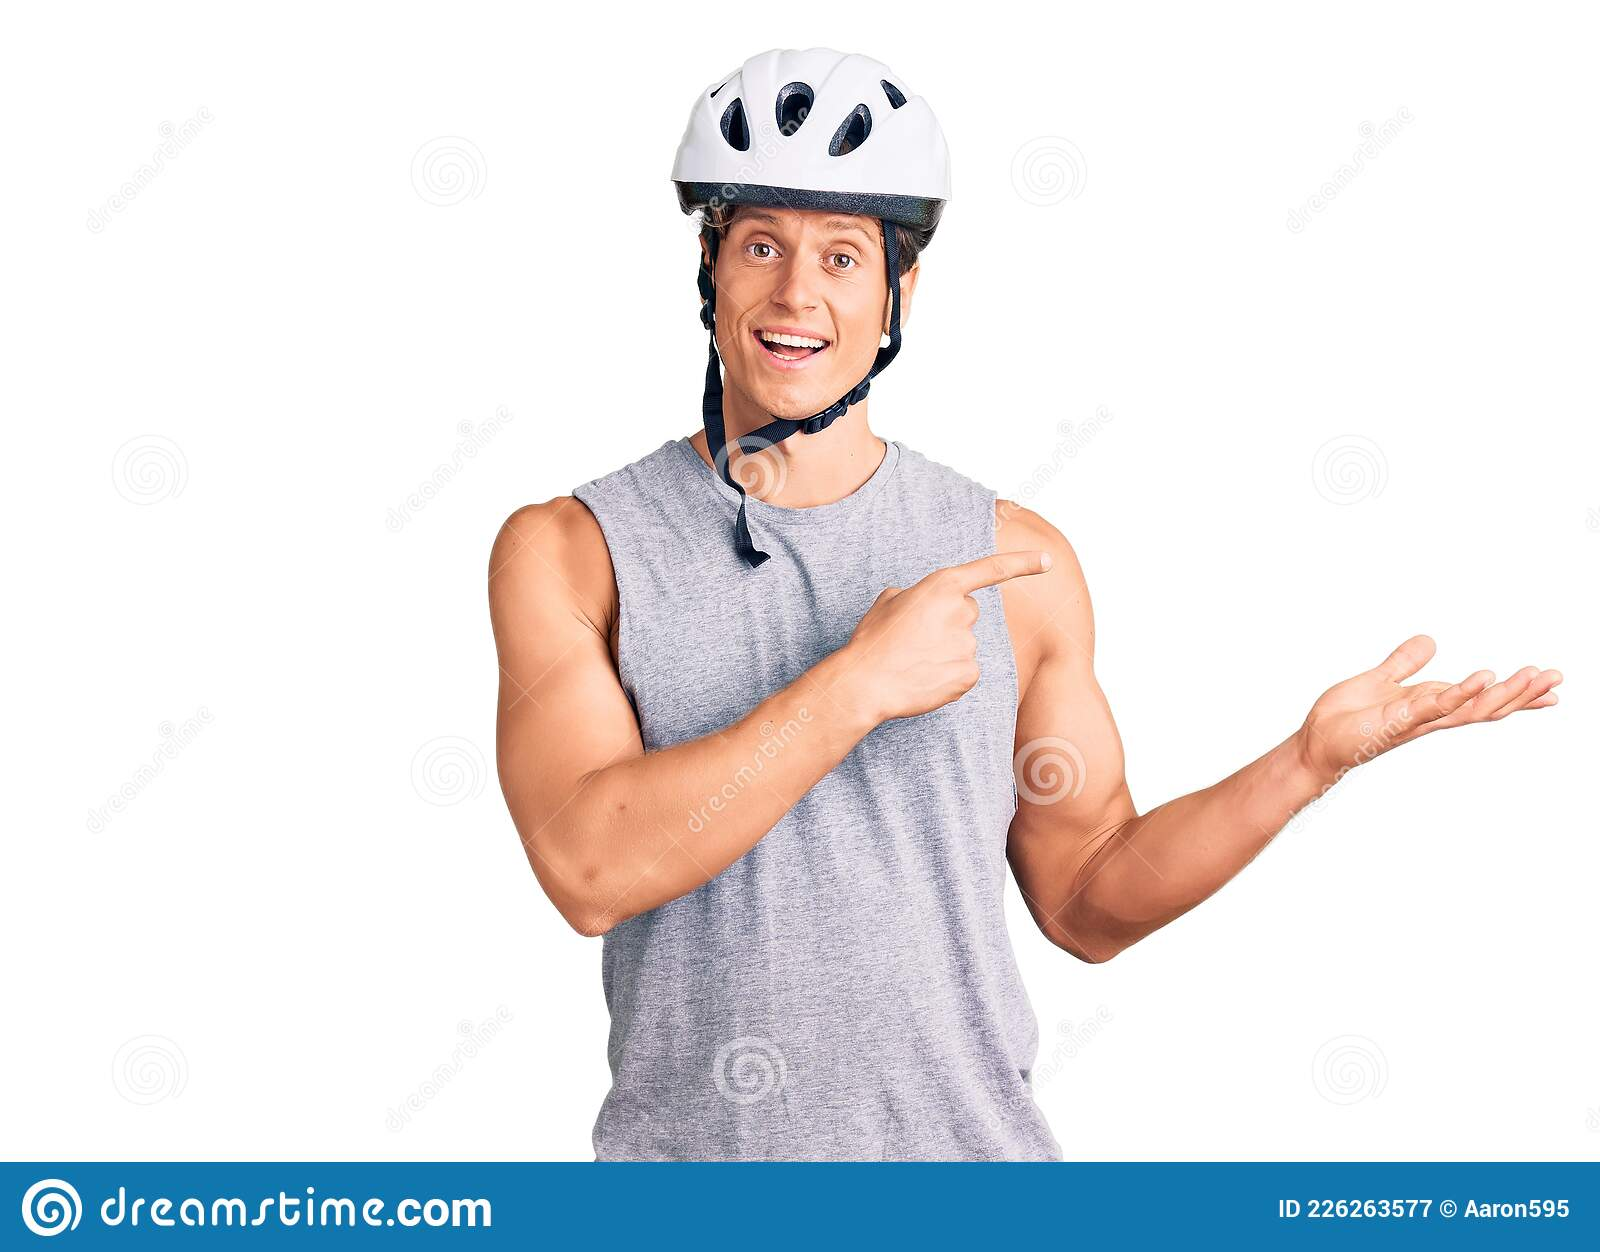helmet: (673, 47, 955, 423)
